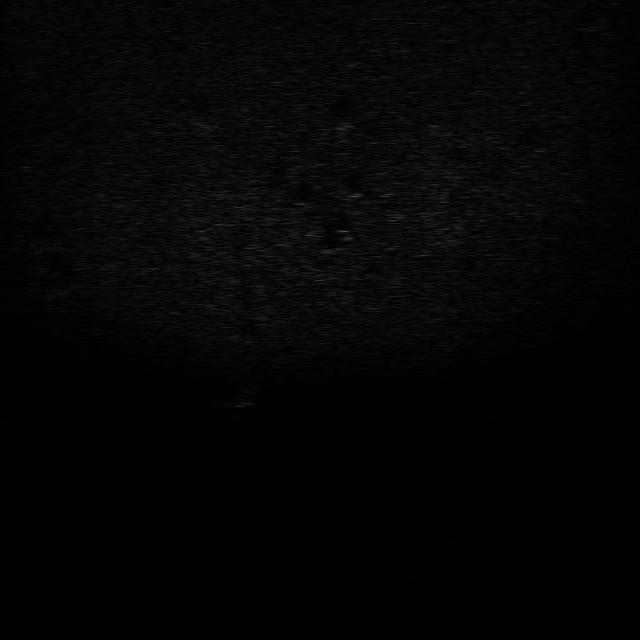human body: (224, 377, 260, 422)
